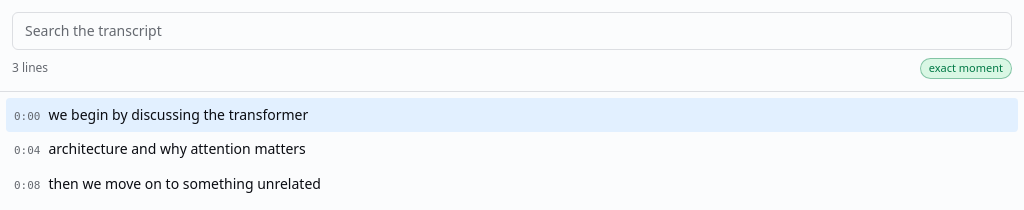
Test case: TranscriptPanel › search › filters to matching lines and reports time spent
Type "unrelated" into the search field labelled "Search the transcript". click: (512, 31)
box: [12,12,1012,50]
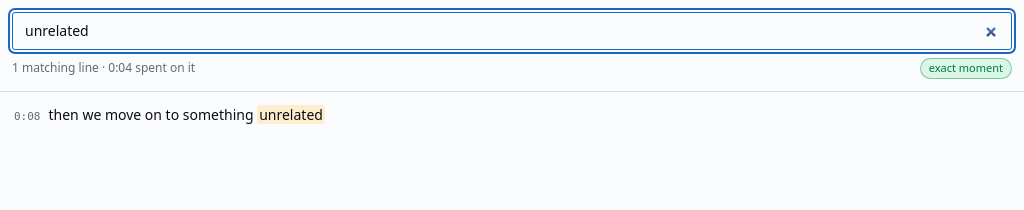
Expected: the list item "0:08then we move on to something unrelated" is shown, [6,98,1018,132]
Expected: the text "1 matching line · 0:04 spent on it" is shown, [12,60,195,76]
